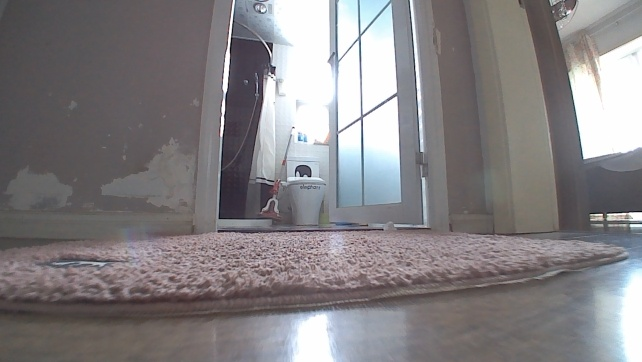blanket: (0, 222, 632, 324)
door_anno: (323, 0, 451, 231)
toilet: (282, 154, 328, 228)
